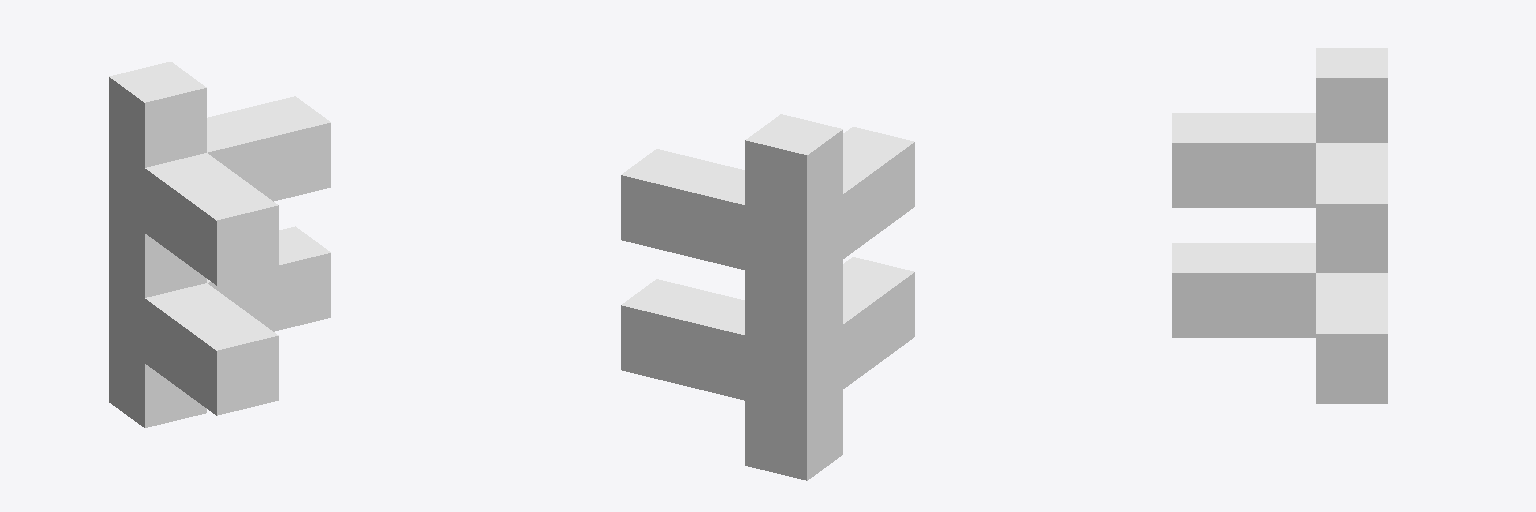
The model's file is fence_edge.obj.
3 renders of one model, left to right at view 1: azimuth 30°, elevation 25°; view 2: azimuth 150°, elevation 25°; view 3: azimuth 270°, elevation 25°, orthographic.
Visible parts, largest first — view 1: object 1; view 2: object 1; view 3: object 1.
Part boxes in pixels (x1,y1,x2,y2): object 1: (109,62,330,427); object 1: (621,114,914,480); object 1: (1172,48,1387,403).
Size of the model in its own units: 0.3 by 0.5 by 0.3.